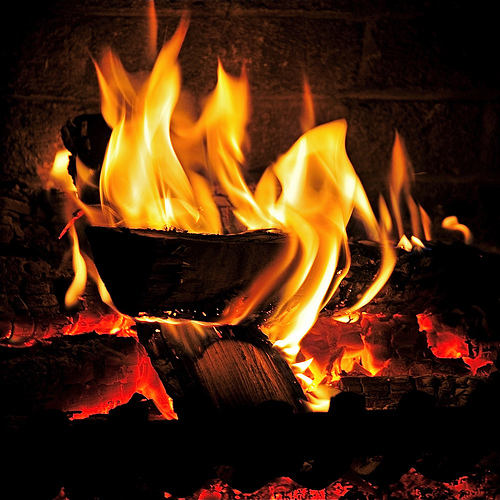fire: (61, 59, 387, 354)
